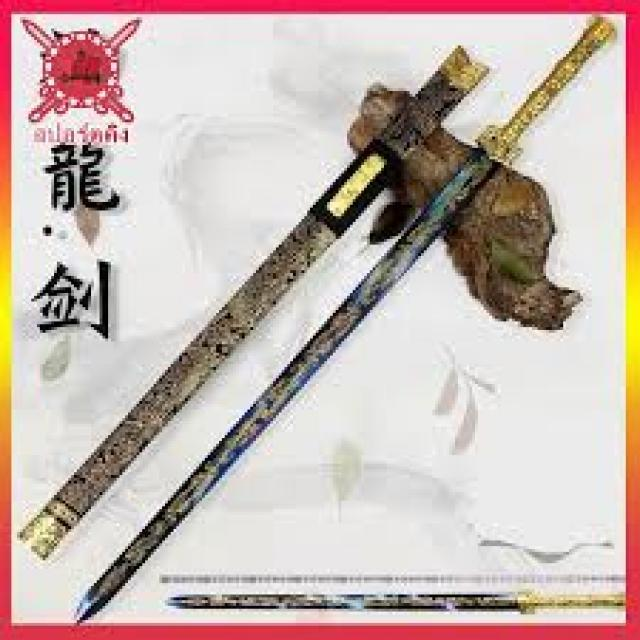long sword: (70, 13, 620, 628)
